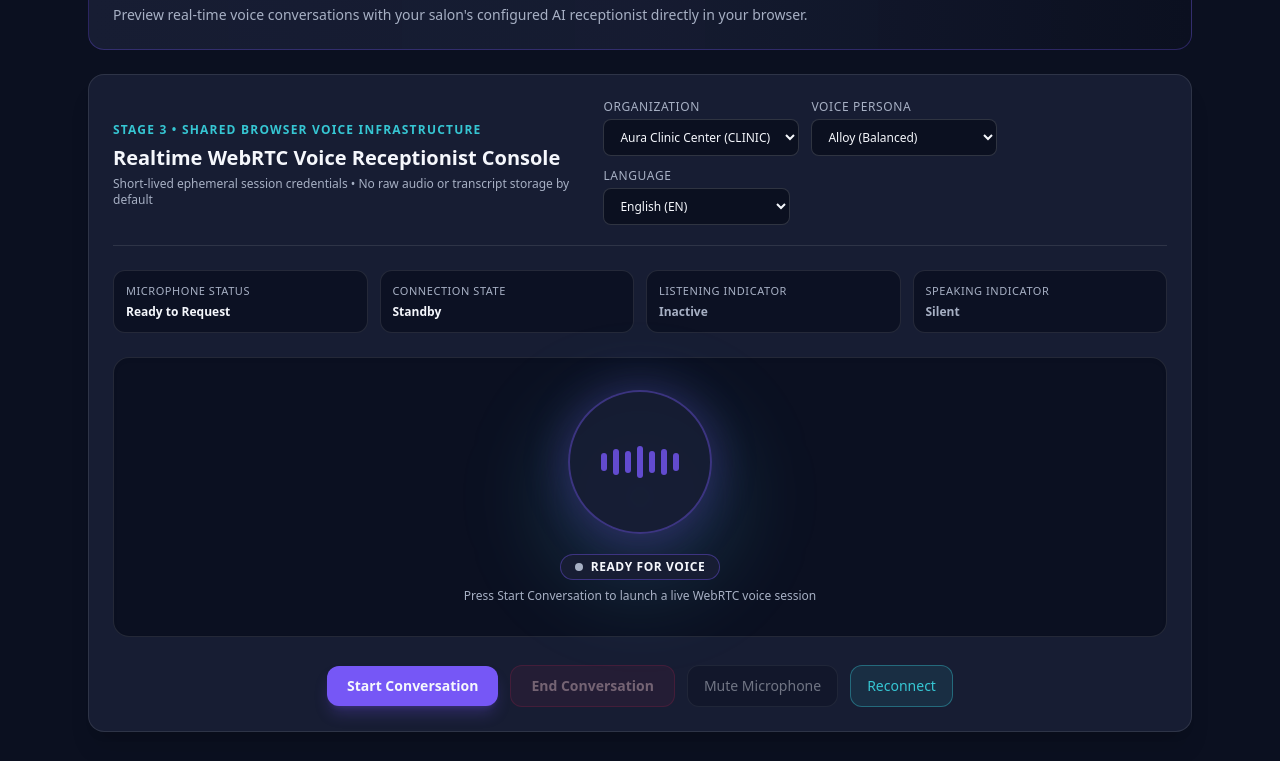
Stage 3 Shared Browser Voice Infrastructure › 4. handles connection failure safely and cleans up captured microphone tracks
(page scrolled)
Click the button with test id "start-conversation-button" at {"x": 413, "y": 686}, box 327,666 -> 498,706
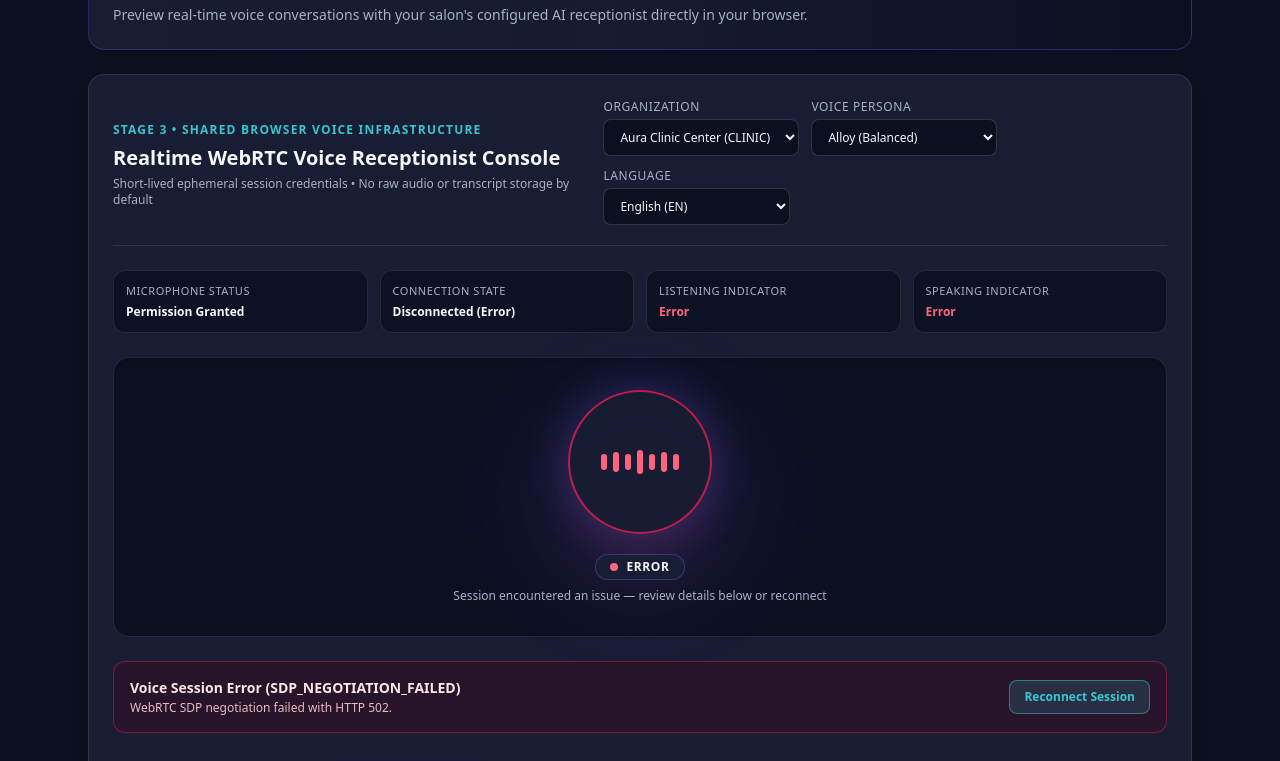
expect the message with test id "voice-error-banner" shows "SDP_NEGOTIATION_FAILED": met, box 270,678 -> 456,696
